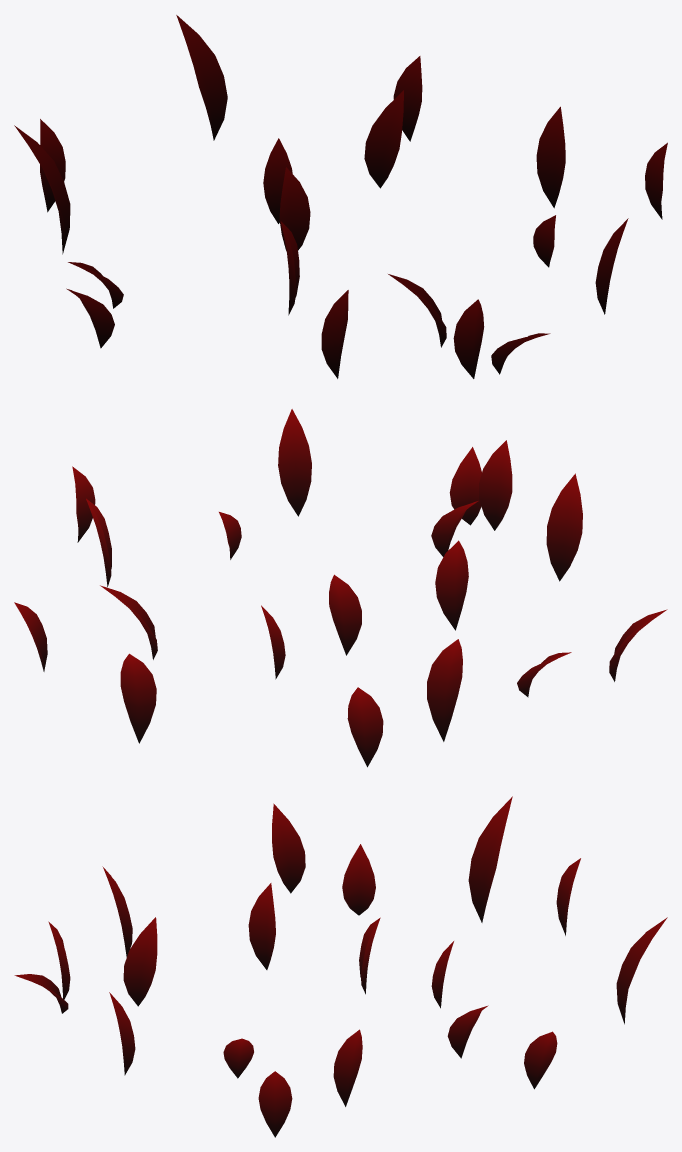
Rendered from GO_Grass.fbx.
3 views of the same model, one above another, from view 1: azimuth 30°, elevation 25°; view 2: azimuth 150°, elevation 25°; view 3: azimuth 270°, elevation 25° (orthographic). The views are drawn at different scales.
Parts seen in each view (by area): view 1: Plane.236; view 2: Plane.236; view 3: Plane.236.
Boxes of the visible parts, <box> form: Plane.236: <box>14,15,667,378</box>; Plane.236: <box>14,409,667,767</box>; Plane.236: <box>14,796,667,1137</box>.
Size of the model in its own units: 350 by 69.58 by 363.
